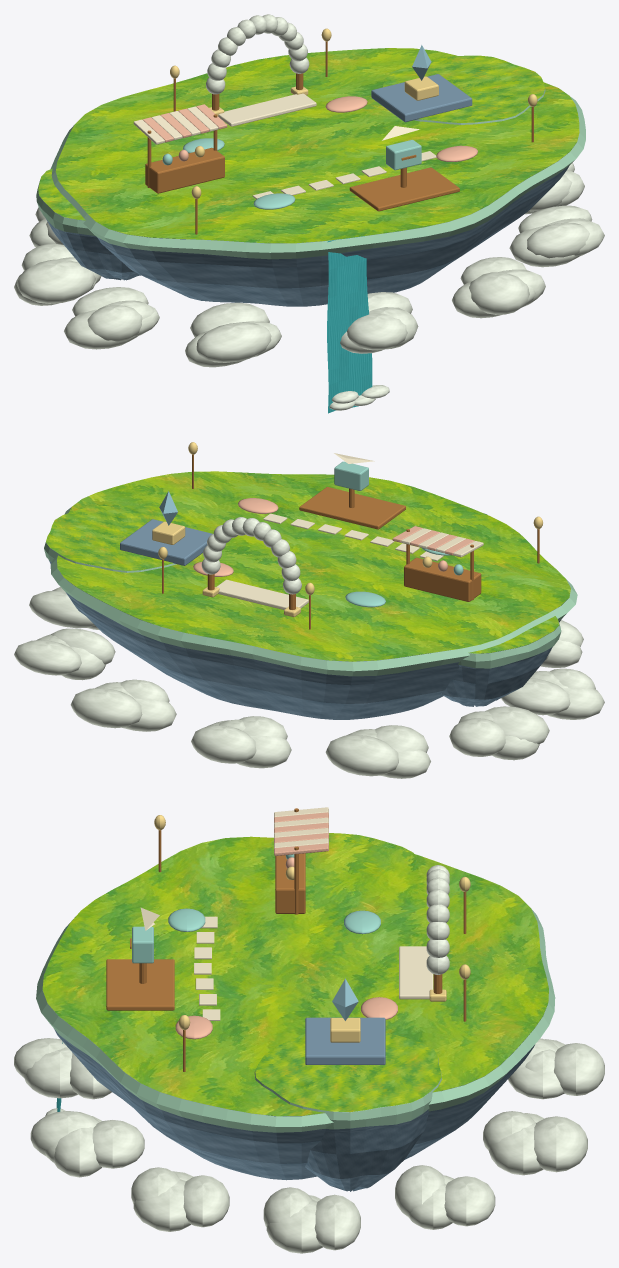
Rendered from cloud-garden-lobby.glb.
3 views of the same model, one above another, from view 1: azimuth 30°, elevation 25°; view 2: azimuth 150°, elevation 25°; view 3: azimuth 270°, elevation 25° (orthographic). The views are drawn at different scales.
Visible parts, largest first — view 1: CloudGardenLobby_JoinedRuntime; view 2: CloudGardenLobby_JoinedRuntime; view 3: CloudGardenLobby_JoinedRuntime.
Part boxes in pixels (x1=…): CloudGardenLobby_JoinedRuntime: x1=14, y1=14, x2=604, y2=413; CloudGardenLobby_JoinedRuntime: x1=14, y1=442, x2=604, y2=778; CloudGardenLobby_JoinedRuntime: x1=14, y1=807, x2=604, y2=1253.
Bounding box in the file's own units: 30.73 × 13.77 × 24.23.
Materials: 11 (5 with a texture image).
